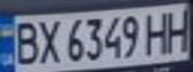3: (81, 14, 106, 62)
4: (103, 12, 124, 61)
6: (63, 15, 87, 63)
9: (118, 11, 145, 58)
B: (6, 18, 42, 66)
H: (142, 8, 175, 56), (163, 4, 193, 54)
X: (33, 16, 63, 65)
